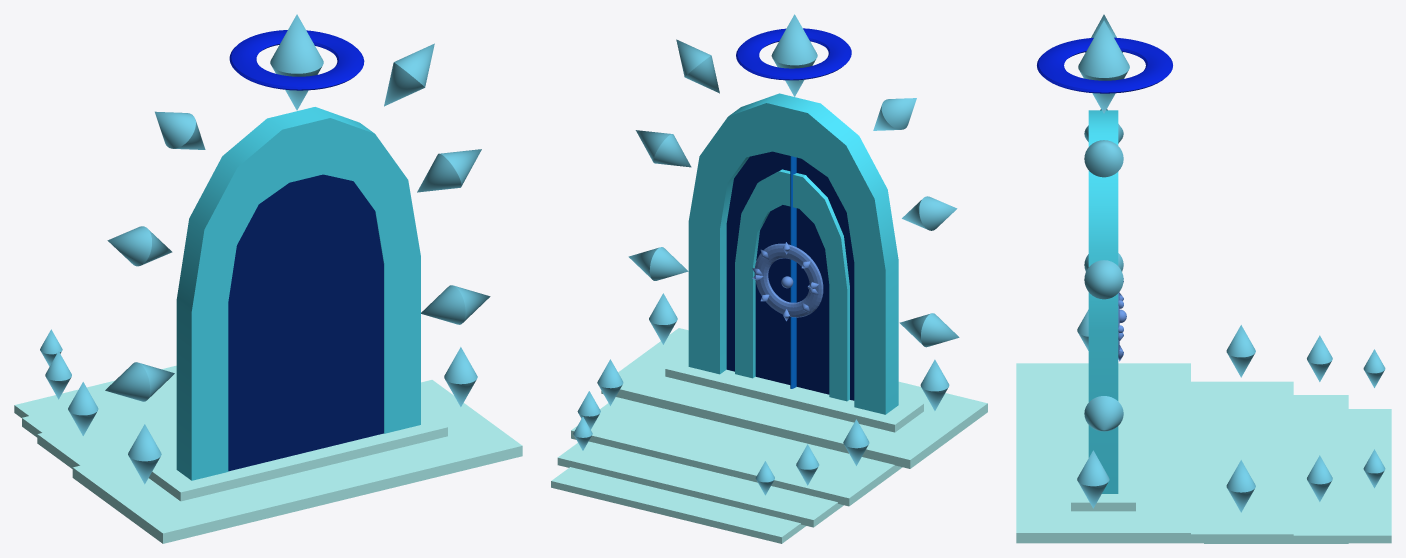
The model's file is icedoor.fbx.
The picture shows the model from 3 angles, left to right: view 1: azimuth 30°, elevation 25°; view 2: azimuth 150°, elevation 25°; view 3: azimuth 270°, elevation 25°; orthographic projection. The views are drawn at different scales.
Visible parts, largest first — view 1: gate; view 2: gate; view 3: gate.
Part boxes in pixels (x1=…): gate: x1=14, y1=14, x2=522, y2=543; gate: x1=551, y1=14, x2=987, y2=543; gate: x1=1016, y1=14, x2=1391, y2=543.
Size of the model in its own units: 1328 by 1562 by 1157.
